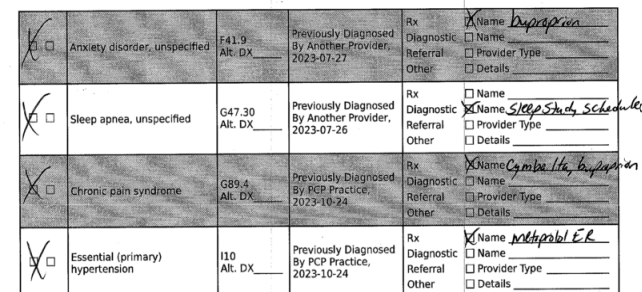checked: (20, 91, 45, 147), (21, 17, 45, 71), (24, 236, 47, 286), (21, 165, 46, 209), (458, 100, 478, 119), (462, 152, 478, 175), (463, 8, 478, 32), (462, 227, 478, 248)
